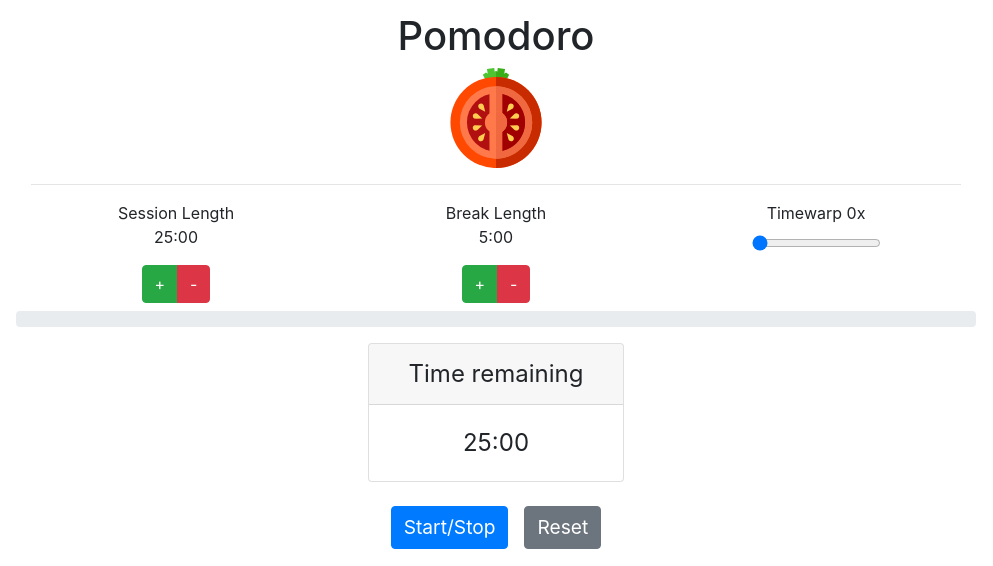
Test case: Pomodoro app › User Story #13: When I click the element with the id of break-increment, the value within id="break-length" increments by a value of 1, and I can see the update
Click the button with test id "break-decrement".
click(514, 284)  # box [497, 265, 530, 303]
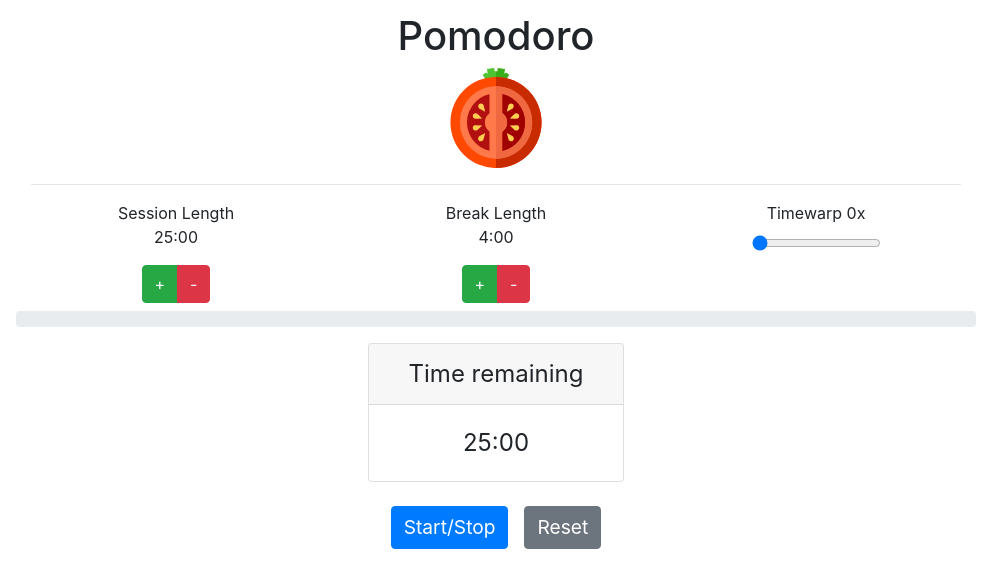
Result: the text with test id "break-length" reads "4:00" at [478, 227, 514, 247]
